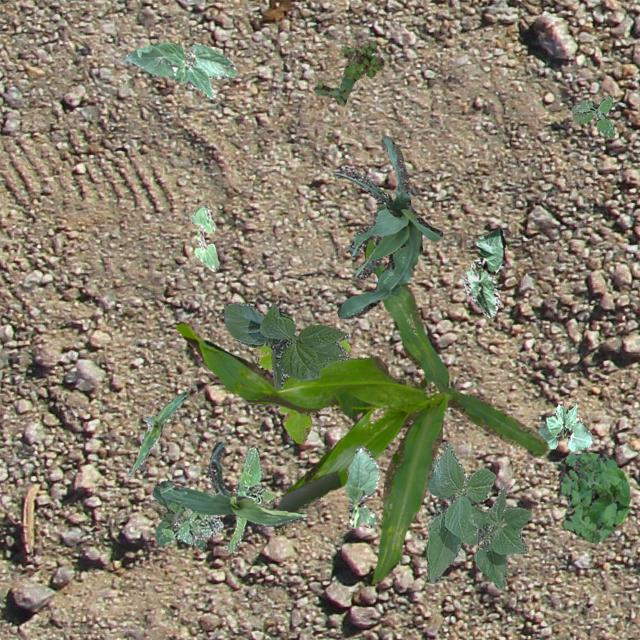crop: (175, 237, 548, 584), (334, 134, 442, 318), (424, 442, 530, 588), (158, 440, 306, 524), (222, 301, 348, 388), (122, 42, 238, 98), (126, 390, 188, 474), (462, 226, 504, 318), (344, 444, 378, 526), (534, 402, 592, 450), (190, 204, 218, 270)
weed: (160, 447, 274, 552), (249, 338, 349, 442), (558, 452, 628, 542), (312, 40, 383, 104), (152, 486, 206, 548), (570, 94, 614, 138)
